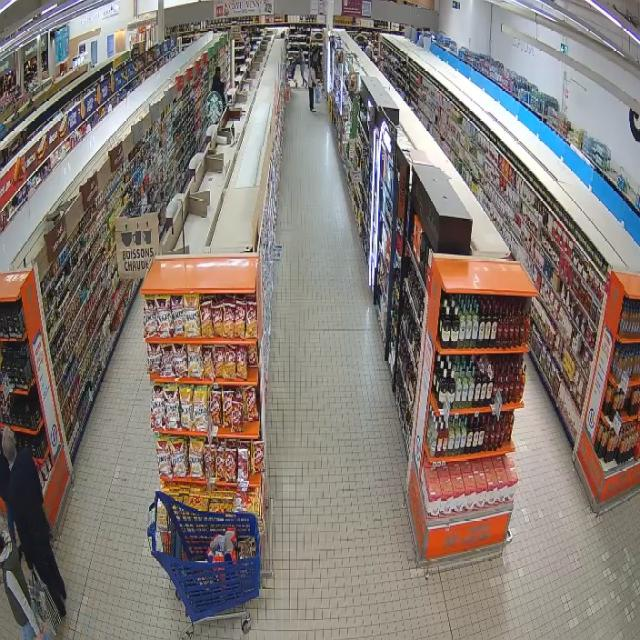bags: (29, 570, 61, 634), (315, 85, 320, 102)
hands: (36, 629, 44, 639)
person: (2, 427, 66, 617), (0, 531, 52, 639), (307, 66, 316, 111)
